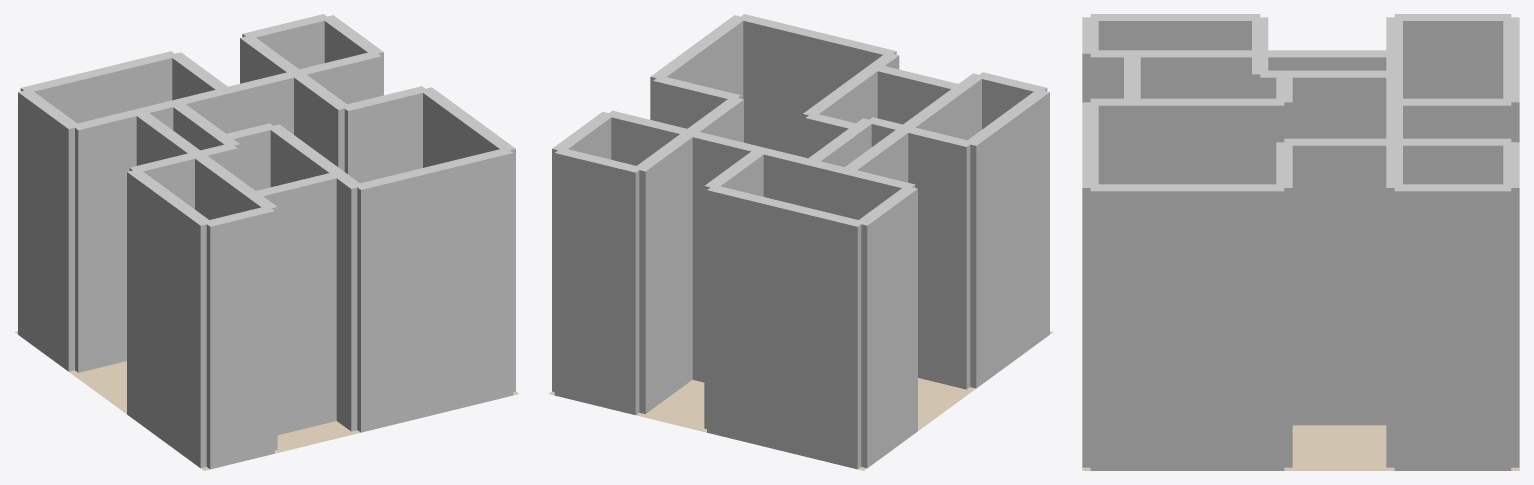
Rendered from a4d5a97f-6a80-42b8-abfd-37902e734e9e.glb.
3 views of the same model, side by side, from view 1: azimuth 30°, elevation 25°; view 2: azimuth 150°, elevation 25°; view 3: azimuth 270°, elevation 25° (orthographic). The views are drawn at different scales.
Parts seen in each view (by area): view 1: wall_1, wall_13, wall_6, wall_4, wall_7, wall_16, wall_3, wall_10, wall_18, wall_5, wall_11, wall_2 (+7 smaller); view 2: wall_18, wall_17, wall_6, wall_11, wall_16, wall_8, wall_13, wall_1, wall_5, wall_2, floor, wall_7 (+7 smaller); view 3: wall_2, wall_14, wall_11, wall_3, wall_5, wall_16, wall_9, wall_6, wall_13, floor, wall_15, wall_1 (+7 smaller).
Boxes of the visible parts, <box> form: wall_1: <box>354,148,513,432</box>; wall_13: <box>71,51,381,372</box>; wall_6: <box>127,170,212,468</box>; wall_4: <box>204,206,274,469</box>; wall_7: <box>255,173,339,434</box>; wall_16: <box>18,89,76,371</box>; wall_3: <box>267,124,361,431</box>; wall_10: <box>341,86,425,183</box>; wall_18: <box>20,51,174,123</box>; wall_5: <box>133,110,277,449</box>; wall_11: <box>240,35,347,171</box>; wall_2: <box>420,87,515,391</box>; wall_18: <box>707,186,864,469</box>; wall_17: <box>554,148,639,415</box>; wall_6: <box>964,90,1049,388</box>; wall_11: <box>633,98,743,413</box>; wall_16: <box>855,186,917,468</box>; wall_8: <box>866,117,973,389</box>; wall_13: <box>605,110,915,382</box>; wall_1: <box>737,14,896,156</box>; wall_5: <box>841,73,981,182</box>; wall_2: <box>650,15,743,120</box>; floor: <box>549,331,1053,470</box>; wall_7: <box>872,65,964,124</box>; wall_2: <box>1090,184,1284,470</box>; wall_14: <box>1394,184,1511,470</box>; wall_11: <box>1284,138,1511,425</box>; wall_3: <box>1090,98,1284,184</box>; wall_5: <box>1090,50,1394,98</box>; wall_16: <box>1394,14,1511,98</box>; wall_9: <box>1260,70,1394,138</box>; wall_6: <box>1090,14,1260,50</box>; wall_13: <box>1386,17,1402,467</box>; floor: <box>1082,425,1519,470</box>; wall_15: <box>1396,98,1511,138</box>; wall_1: <box>1082,102,1098,467</box>.
Bounding box in the file's own units: 3.81 × 2.8 × 3.97.
